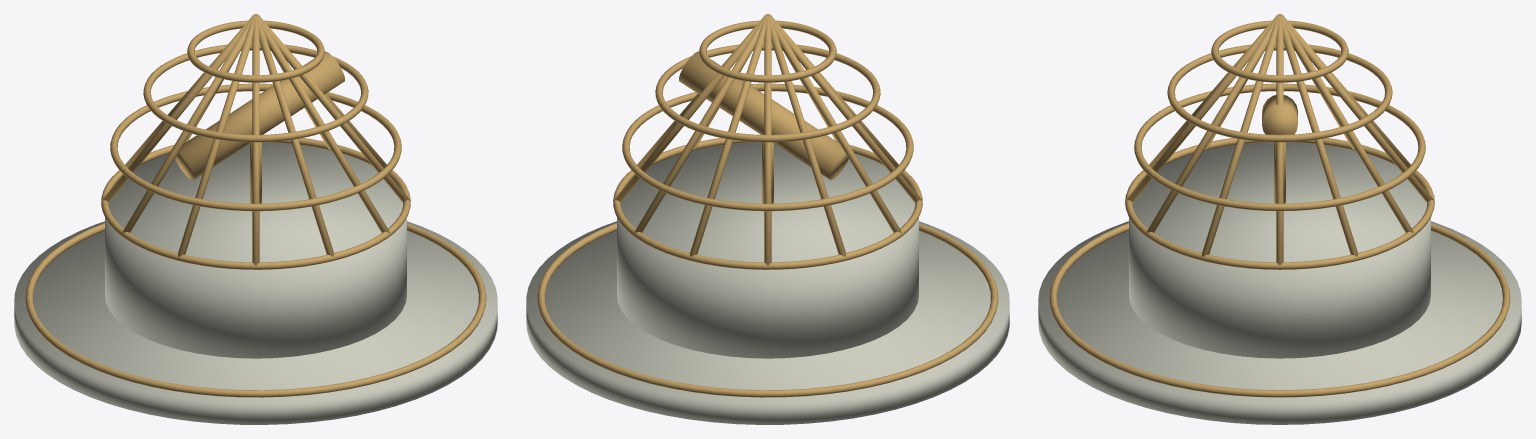
The model's file is observatory.glb.
3 views of the same model, side by side, from view 1: azimuth 30°, elevation 25°; view 2: azimuth 150°, elevation 25°; view 3: azimuth 270°, elevation 25° (orthographic).
Parts seen in each view (by area): view 1: Observatory drum, Limestone plinth, Brass inlay, Telescope barrel, Dome band.001, Dome band, Dome band.002, Dome band.003, Dome rib.009, Dome rib.007, Dome rib.008, Dome rib.006 (+4 smaller); view 2: Observatory drum, Limestone plinth, Brass inlay, Telescope barrel, Dome band.001, Dome band, Dome band.002, Dome band.003, Dome rib.003, Dome rib.005, Dome rib.004, Dome rib.006 (+4 smaller); view 3: Observatory drum, Limestone plinth, Brass inlay, Dome band.001, Dome band, Dome band.002, Dome band.003, Dome rib.001, Dome rib.011, Dome rib.002, Dome rib.010, Dome rib.003 (+5 smaller).
Boxes of the visible parts, box(x1,y1,x2,y2) form: Observatory drum: box(105, 142, 406, 358); Limestone plinth: box(14, 221, 497, 424); Brass inlay: box(25, 223, 486, 397); Telescope barrel: box(175, 51, 344, 180); Dome band.001: box(110, 83, 401, 211); Dome band: box(101, 138, 410, 269); Dome band.002: box(143, 43, 368, 142); Dome band.003: box(187, 20, 324, 82); Dome rib.009: box(256, 16, 334, 256); Dome rib.007: box(177, 16, 255, 256); Dome rib.008: box(252, 17, 259, 265); Dome rib.006: box(122, 16, 254, 232); Observatory drum: box(617, 142, 918, 358); Limestone plinth: box(526, 221, 1009, 424); Brass inlay: box(537, 223, 998, 397); Telescope barrel: box(679, 51, 848, 180); Dome band.001: box(622, 83, 913, 211); Dome band: box(613, 138, 922, 269); Dome band.002: box(655, 43, 880, 142); Dome band.003: box(699, 20, 836, 82); Dome rib.003: box(689, 16, 767, 256); Dome rib.005: box(768, 16, 846, 256); Dome rib.004: box(764, 17, 771, 265); Dome rib.006: box(769, 16, 901, 232); Observatory drum: box(1129, 142, 1430, 358); Limestone plinth: box(1038, 221, 1521, 424); Brass inlay: box(1049, 223, 1510, 397); Dome band.001: box(1134, 83, 1425, 211); Dome band: box(1125, 138, 1434, 269); Dome band.002: box(1167, 43, 1392, 142); Dome band.003: box(1211, 20, 1348, 82); Dome rib.001: box(1280, 16, 1358, 256); Dome rib.011: box(1201, 16, 1279, 256); Dome rib.002: box(1281, 16, 1413, 232); Dome rib.010: box(1146, 16, 1278, 232); Dome rib.003: box(1281, 15, 1433, 202).
Size of the model in its own units: 3.2 by 2.24 by 3.2.
